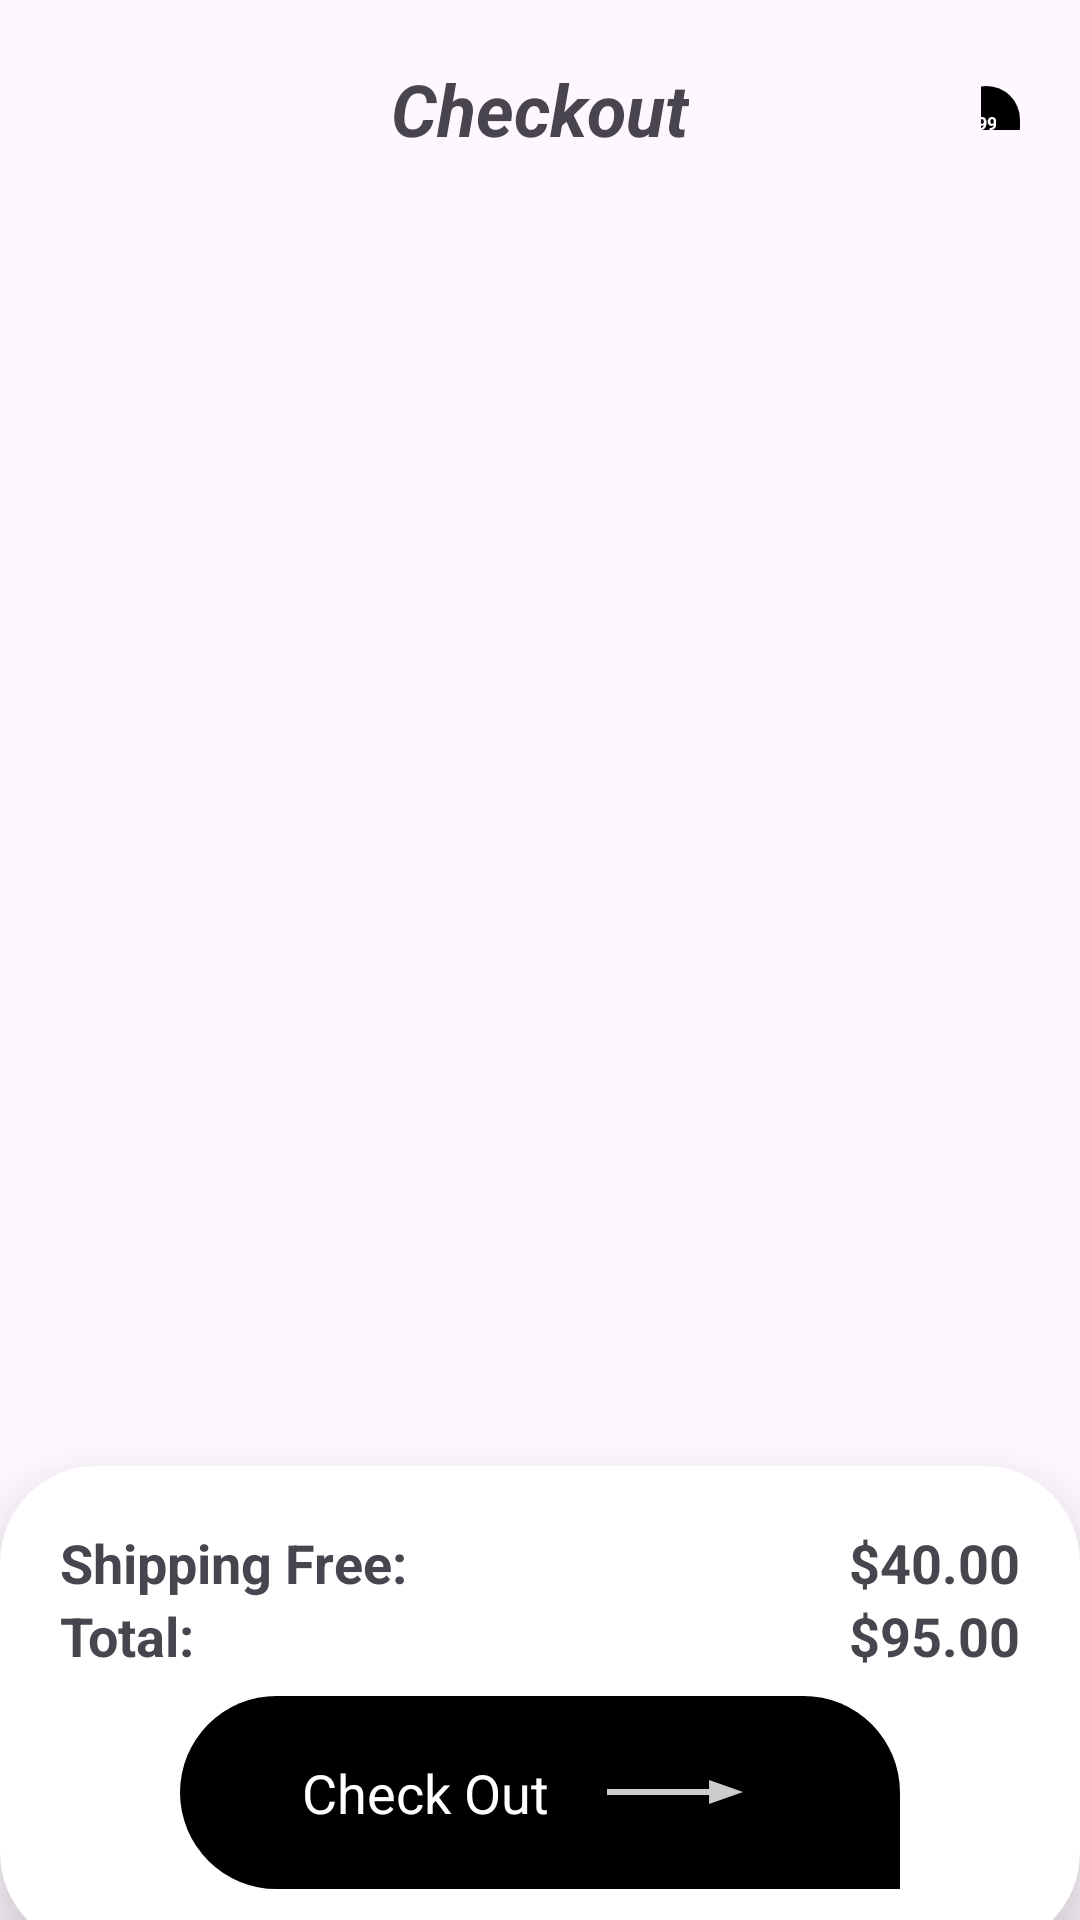

Point at icon controls on the screen. Image size 1080 x 1920, points as (x,y).
arrow right: (675,1792)
